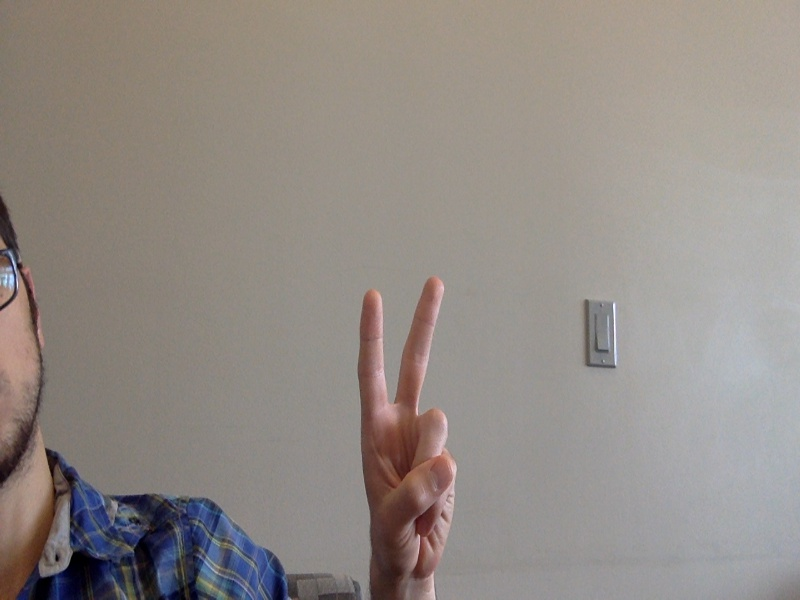2-hand: (362, 276, 456, 582)
